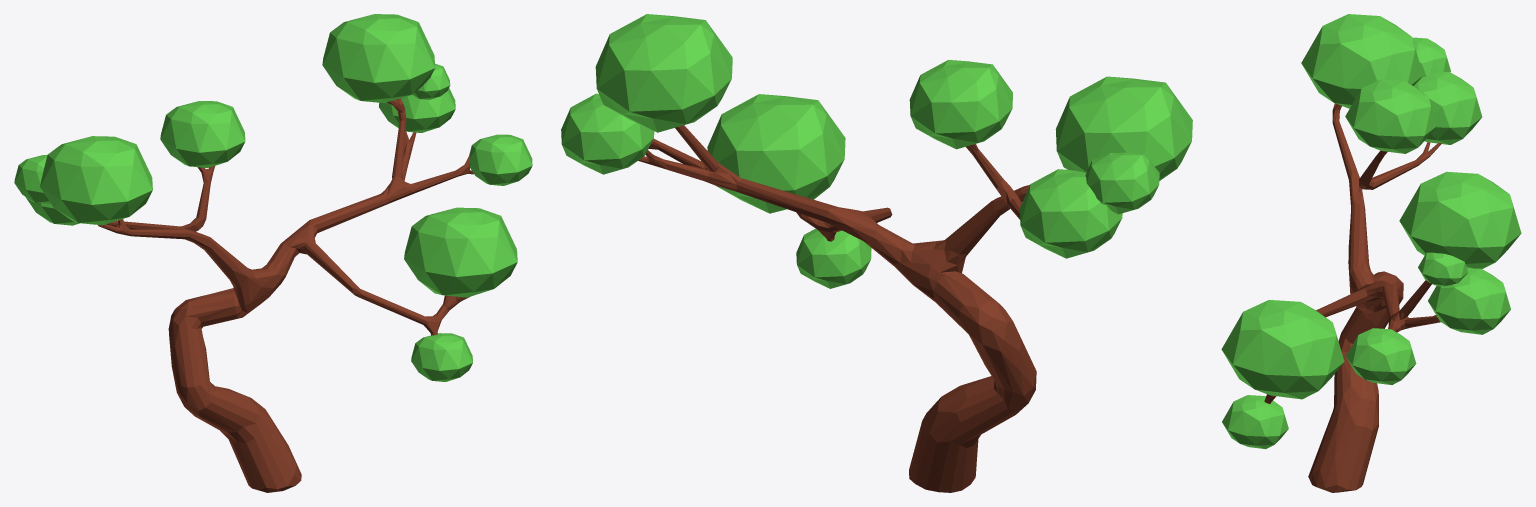
The model's file is tree.fbx.
The picture shows the model from 3 angles, left to right: view 1: azimuth 30°, elevation 25°; view 2: azimuth 150°, elevation 25°; view 3: azimuth 270°, elevation 25°; orthographic projection. The views are drawn at different scales.
Parts seen in each view (by area): view 1: tree; view 2: tree; view 3: tree.
Part boxes in pixels (x1,y1,x2,y2): tree: [14, 14, 532, 492]; tree: [561, 14, 1192, 492]; tree: [1221, 14, 1521, 492].
Size of the model in its own units: 893 by 658 by 464.
